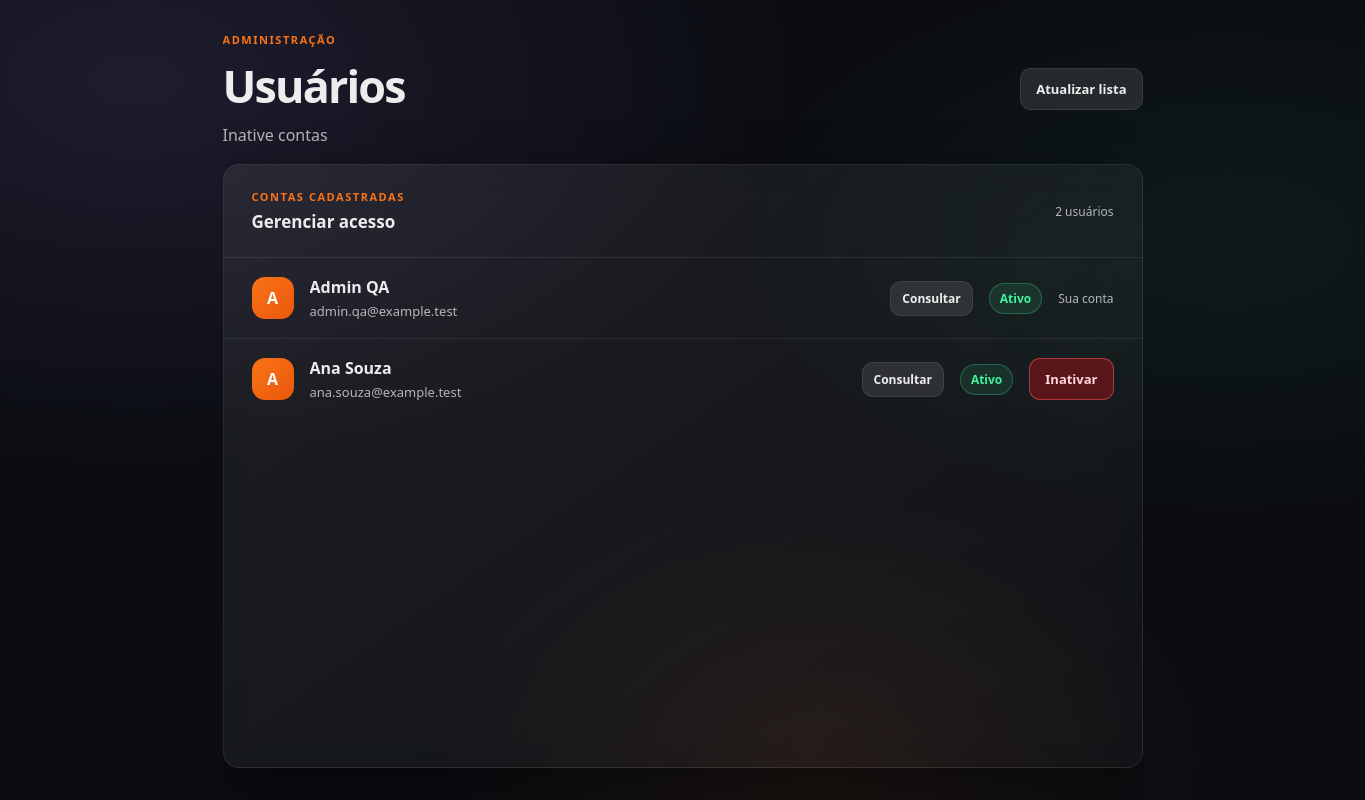
Test: RendUP — Sprint 1 — E2E de interface (API simulada) › CT-UI-012 / US-003 — administrador confirma inativação e a interface atualiza o status
The image size is (1365, 800).
Click the button "Inativar".
click(1071, 379)  # box [1029,358,1113,400]
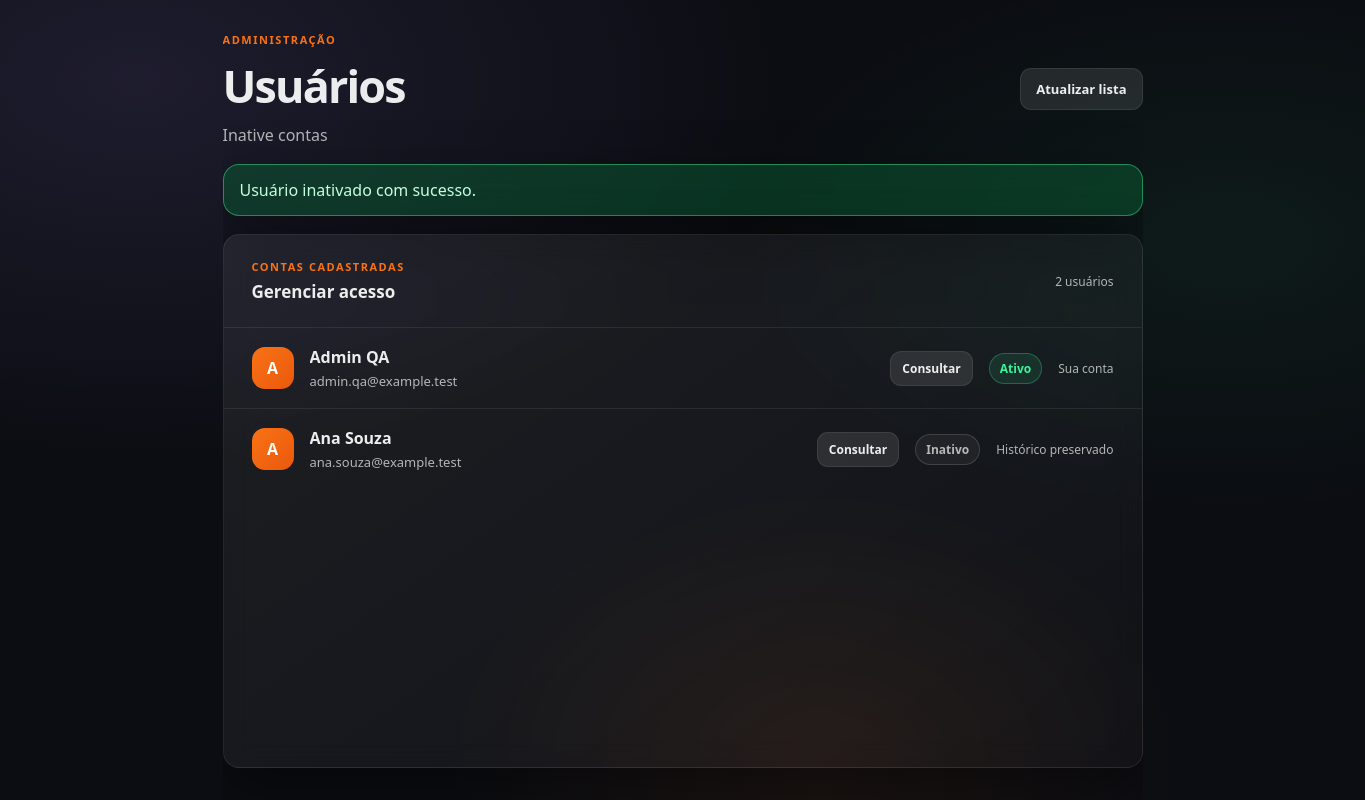
Now the text "Ana Souza" shows "Inativo", box [310,427,392,449]
Now the message "Usuário inativado com sucesso." is shown, box [222,164,1142,216]
